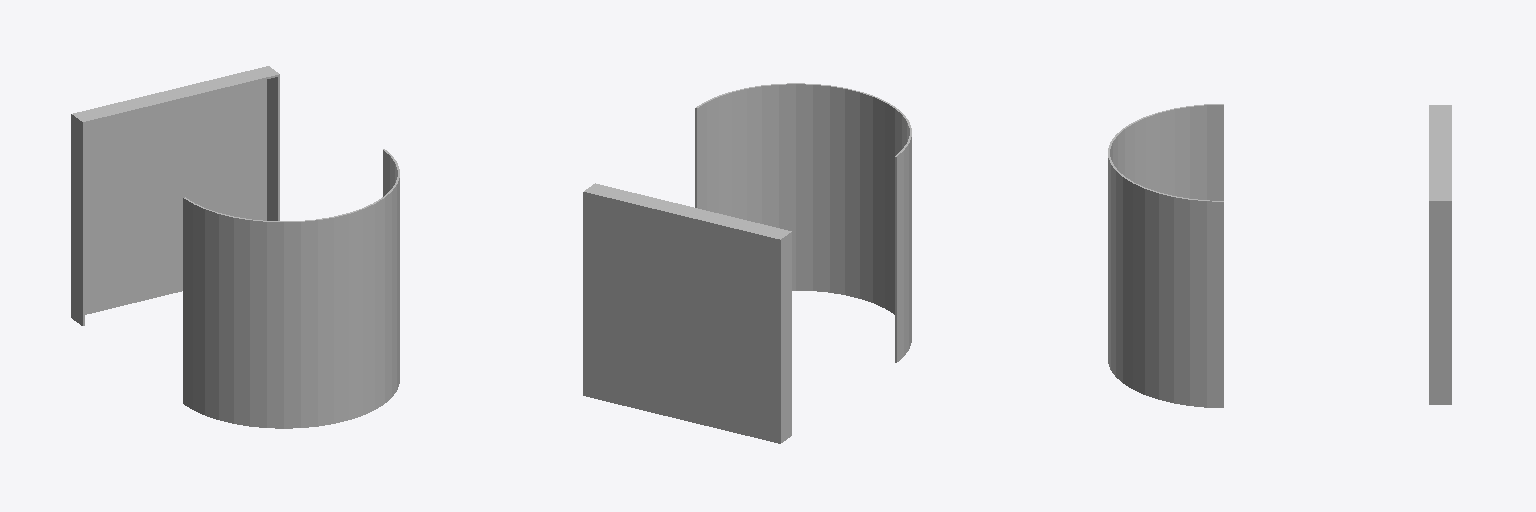
The model's file is world1.obj.
3 renders of one model, left to right at view 1: azimuth 30°, elevation 25°; view 2: azimuth 150°, elevation 25°; view 3: azimuth 270°, elevation 25°, orthographic.
Visible parts, largest first — view 1: Body2, Body1; view 2: Body1, Body2; view 3: Body2, Body1.
Part boxes in pixels (left/top/right/bottom): Body2: left=183, top=149, right=399, bottom=428; Body1: left=71, top=66, right=279, bottom=325; Body1: left=583, top=183, right=791, bottom=443; Body2: left=695, top=83, right=911, bottom=362; Body2: left=1108, top=104, right=1223, bottom=407; Body1: left=1429, top=105, right=1451, bottom=404.
Size of the model in its own units: 102 by 100 by 151.